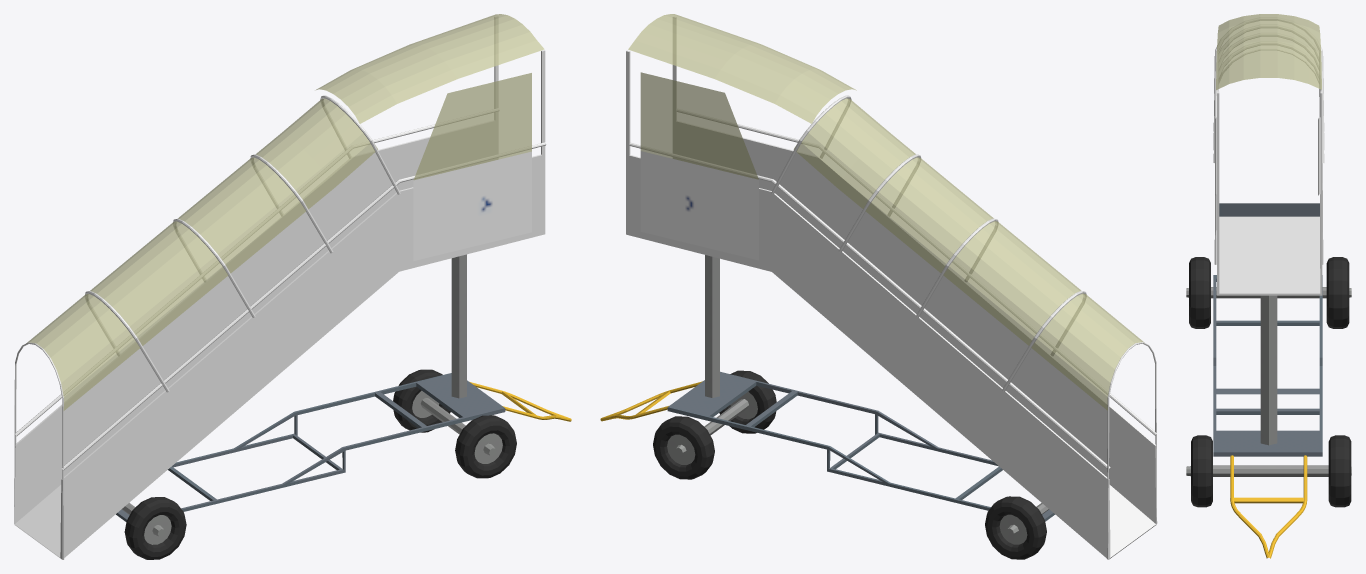
Rendered from EscadaEmb.gltf.
The picture shows the model from 3 angles, left to right: view 1: azimuth 30°, elevation 25°; view 2: azimuth 150°, elevation 25°; view 3: azimuth 270°, elevation 25°; orthographic projection. The views are drawn at different scales.
Parts seen in each view (by area): view 1: node1; view 2: node1; view 3: node1.
Boxes of the visible parts, left/top/right/bottom form: node1: left=14, top=14, right=571, bottom=559; node1: left=600, top=14, right=1157, bottom=559; node1: left=1186, top=14, right=1351, bottom=558.
Size of the model in its own units: 6.98 by 5.22 by 1.7.
